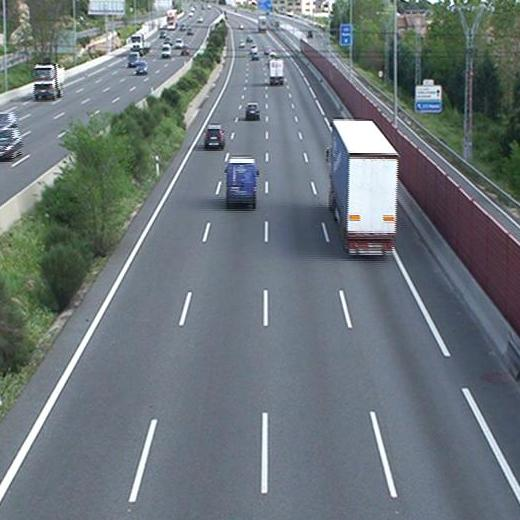car: (204, 124, 223, 149), (245, 103, 259, 119)
small-truck: (268, 58, 284, 86)
truck: (326, 120, 397, 255)
van: (225, 157, 258, 208)
